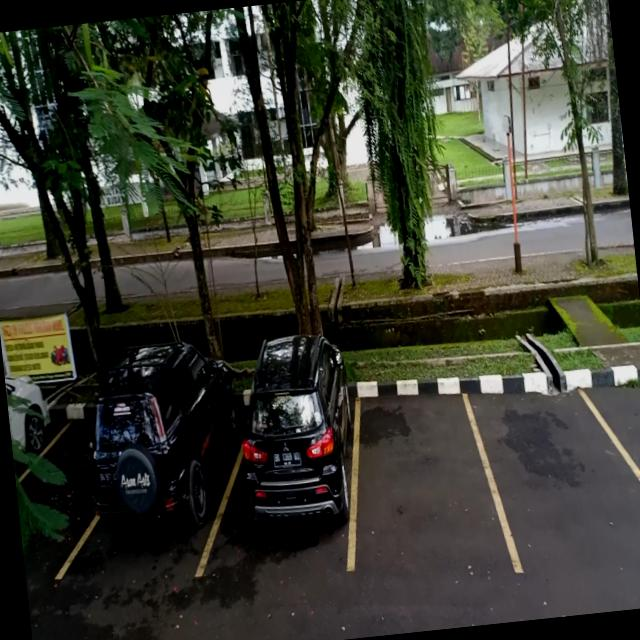car: (80, 379, 250, 586), (222, 362, 365, 580)
free: (341, 360, 504, 582), (479, 360, 640, 576), (619, 368, 640, 551)
